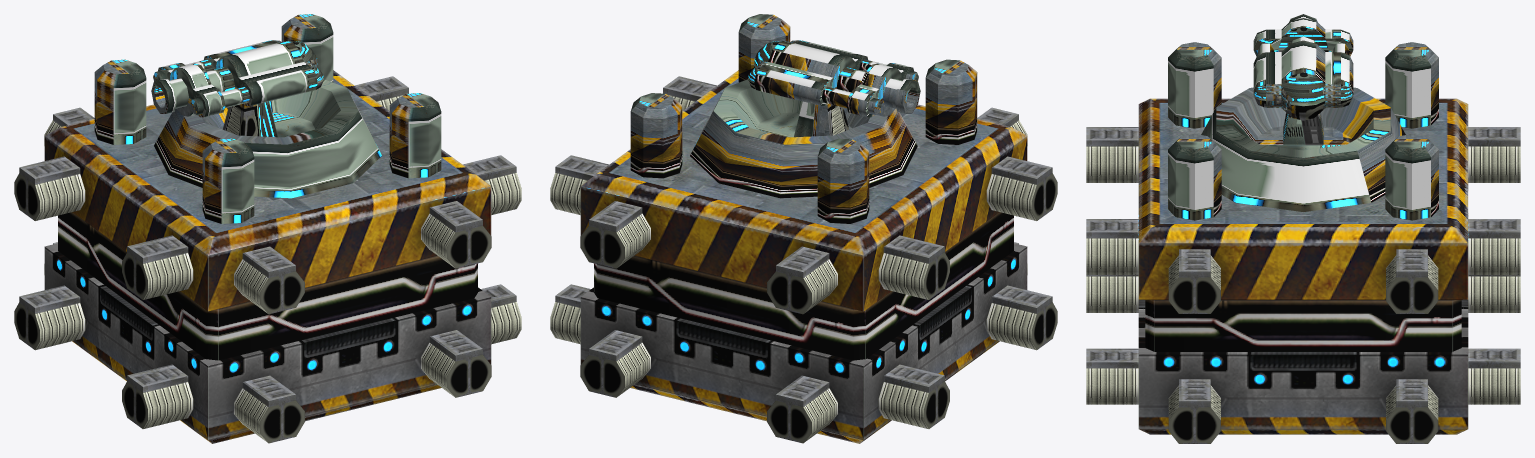
The model's file is Module_Turret_Mesh.dae.
3 views of the same model, side by side, from view 1: azimuth 30°, elevation 25°; view 2: azimuth 150°, elevation 25°; view 3: azimuth 270°, elevation 25° (orthographic).
Visible parts, largest first — view 1: Module_Turret, Turret_Mount, Turret_Gun; view 2: Module_Turret, Turret_Mount, Turret_Gun; view 3: Module_Turret, Turret_Mount, Turret_Gun.
Boxes of the visible parts, left/top/right/bottom form: Module_Turret: left=14, top=14, right=521, bottom=443; Turret_Mount: left=154, top=79, right=381, bottom=198; Turret_Gun: left=151, top=40, right=323, bottom=117; Module_Turret: left=550, top=14, right=1057, bottom=443; Turret_Mount: left=690, top=79, right=917, bottom=198; Turret_Gun: left=748, top=40, right=920, bottom=117; Module_Turret: left=1086, top=42, right=1520, bottom=443; Turret_Mount: left=1201, top=87, right=1405, bottom=211; Turret_Gun: left=1253, top=14, right=1353, bottom=120.
Bounding box in the file's own units: 2 × 1.57 × 2.
